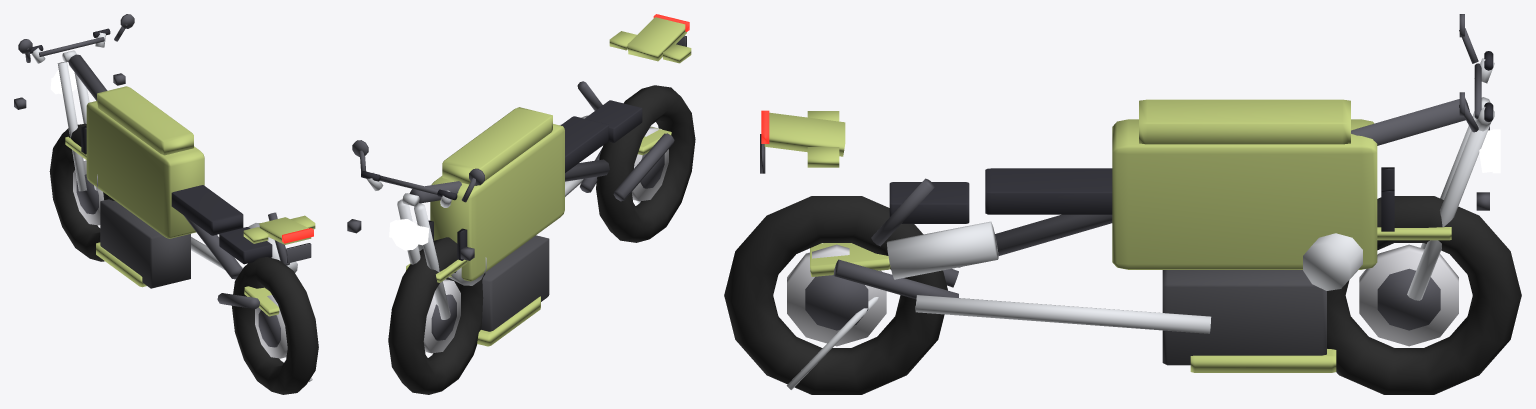
The model's file is bike_enduro.glb.
3 renders of one model, left to right at view 1: azimuth 30°, elevation 25°; view 2: azimuth 150°, elevation 25°; view 3: azimuth 270°, elevation 25°, orthographic. The views are drawn at different scales.
Visible parts, largest first — view 1: Tank, Tire1, Engine, TankTop, Tire0, Seat, FrameMain, SeatRear, Fork-1, Tail, Rim1, Hub_Rim1 (+12 smaller); view 2: Tank, Tire1, Tire0, Engine, TankTop, Seat, Tail, SeatRear, FrameMain, Swingarm_R, Fork-1, Rim0 (+12 smaller); view 3: Tank, Tire1, Tire0, Engine, TankTop, Seat, ExhPipe, FrameMain, Rim0, ExhCan, Rim1, SeatRear (+12 smaller).
Boxes of the visible parts, x1,y1,x2,y2 form: Tank: [86, 101, 204, 238]; Tire1: [232, 257, 318, 394]; Engine: [100, 199, 190, 288]; TankTop: [97, 86, 193, 155]; Tire0: [49, 123, 114, 261]; Seat: [171, 185, 243, 235]; FrameMain: [68, 54, 242, 279]; SeatRear: [219, 227, 272, 264]; Fork-1: [57, 62, 86, 191]; Tail: [259, 217, 311, 244]; Rim1: [255, 295, 287, 358]; Hub_Rim1: [258, 310, 280, 347]; Tank: [430, 124, 564, 281]; Tire1: [596, 85, 695, 242]; Tire0: [388, 237, 485, 394]; Engine: [446, 235, 549, 331]; TankTop: [442, 107, 552, 185]; Seat: [561, 116, 608, 172]; Tail: [627, 17, 686, 61]; SeatRear: [585, 100, 642, 142]; FrameMain: [409, 159, 609, 203]; Swingarm_R: [613, 133, 674, 201]; Fork-1: [414, 203, 450, 319]; Rim0: [423, 279, 460, 353]; Tank: [1112, 119, 1377, 269]; Tire1: [724, 196, 947, 394]; Tire0: [1327, 196, 1521, 394]; Engine: [1162, 270, 1326, 365]; TankTop: [1139, 99, 1350, 144]; Seat: [985, 168, 1112, 214]; ExhPipe: [915, 295, 1211, 333]; FrameMain: [958, 98, 1469, 267]; Rim0: [1359, 244, 1458, 346]; ExhCan: [887, 221, 998, 279]; Rim1: [787, 244, 886, 346]; SeatRear: [889, 182, 969, 223].
Bounding box in the file's own units: 0.7856 × 1.42 × 3.01.
